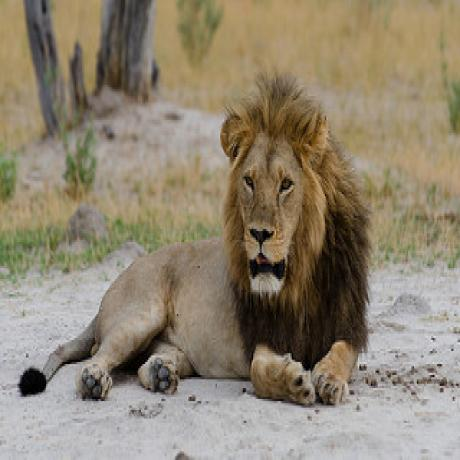Lion: (11, 73, 371, 416)
